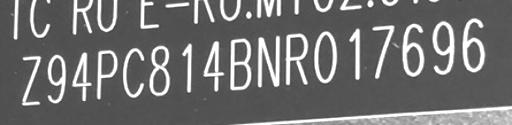letter: (458, 14, 494, 81), (254, 34, 286, 97), (226, 34, 256, 101), (312, 28, 346, 87), (144, 42, 178, 101), (370, 22, 400, 87), (396, 19, 430, 76), (284, 30, 314, 93), (176, 33, 204, 100), (93, 46, 125, 103), (120, 43, 152, 98), (15, 52, 47, 107), (428, 19, 458, 74), (68, 45, 94, 104), (342, 25, 366, 86), (202, 40, 226, 99), (44, 52, 70, 105)
